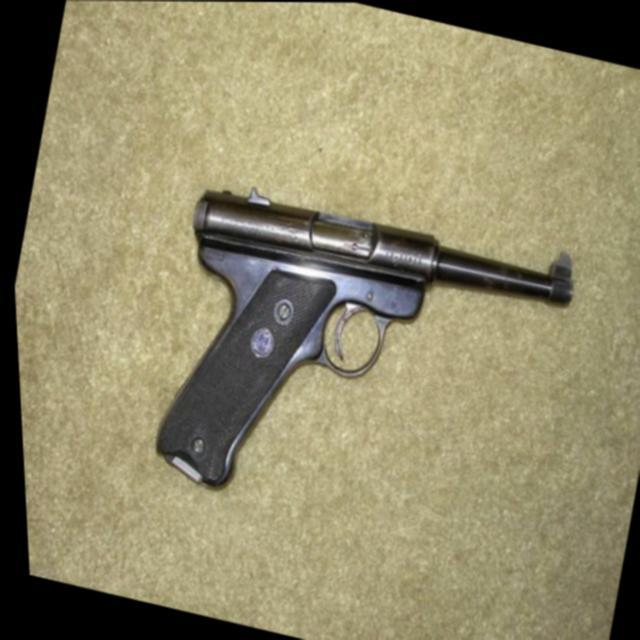weapon: (128, 163, 590, 562)
